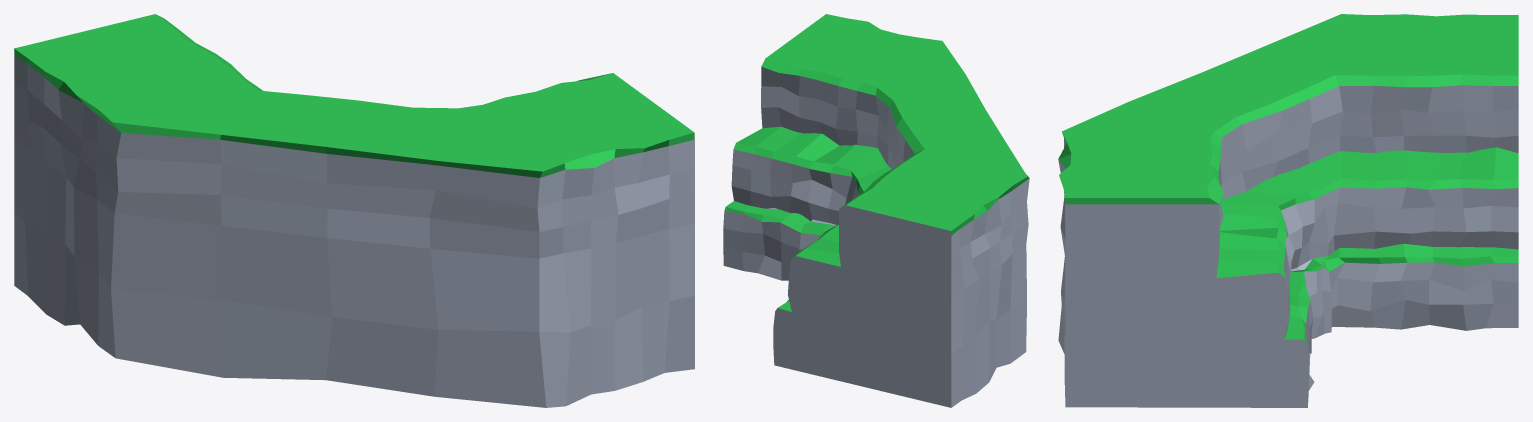
File: cliffCorner.fbx
3 renders of one model, left to right at view 1: azimuth 30°, elevation 25°; view 2: azimuth 150°, elevation 25°; view 3: azimuth 270°, elevation 25°, orthographic. The views are drawn at different scales.
Visible parts, largest first — view 1: Plane.001; view 2: Plane.001; view 3: Plane.001.
Boxes of the visible parts, x1,y1,x2,y2 form: Plane.001: (14, 14, 694, 407); Plane.001: (723, 14, 1029, 407); Plane.001: (1058, 14, 1518, 407).
Bounding box in the file's own units: 2210 × 1195 × 2325.
